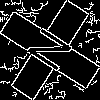N: (25, 25, 83, 80)
